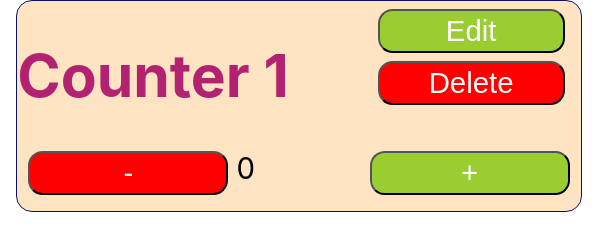
Test CounterList to make sure it works well with redux › increments the counter
Check: the text with test id "value" reads "0", box [236,151,255,186]
Step 1. Click the button with test id "button-increase" → (470, 173), box [370,151,570,194]
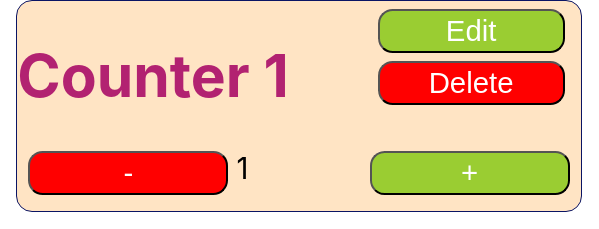
Check: the text with test id "value" reads "1", box [236,151,248,186]
Step 2. Click the button with test id "button-decrease" → (128, 173), box [28,151,228,194]
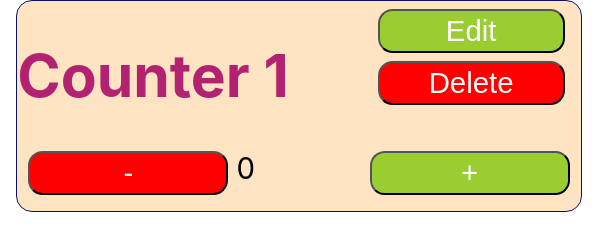
Check: the text with test id "value" reads "0", box [236,151,255,186]
